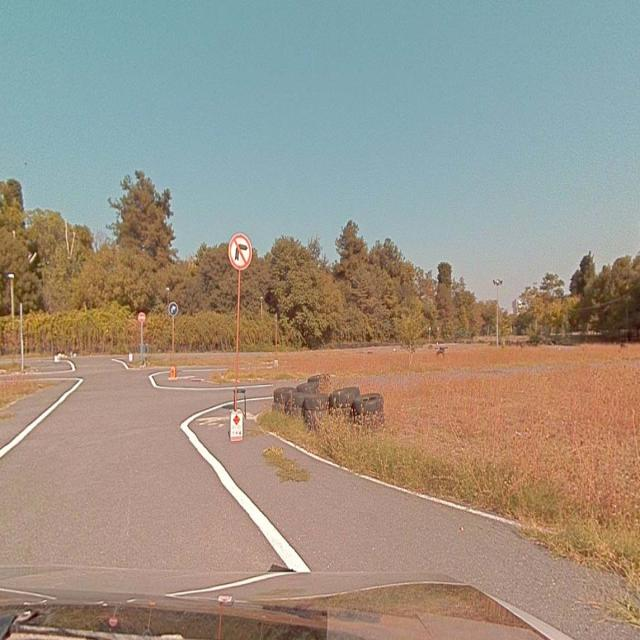girisyok: (138, 312, 146, 323)
sag: (169, 302, 178, 315)
sagadonulmez: (228, 234, 252, 269)
